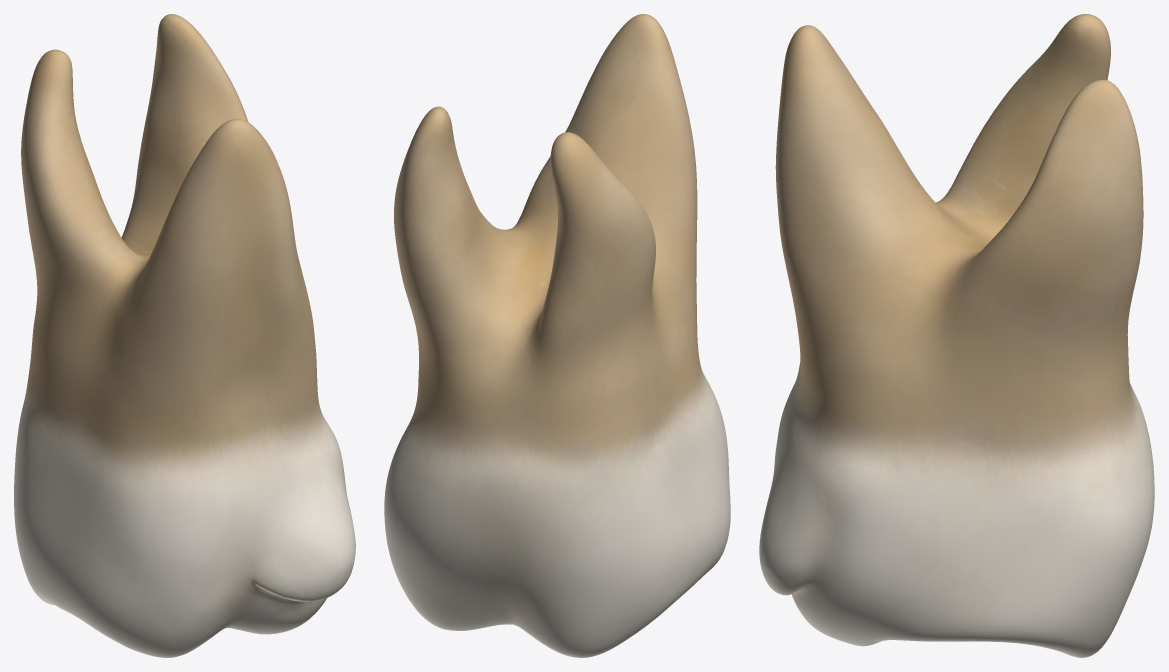
File: maxillary_first_molar_with_cusp_of_carabelli.glb
The picture shows the model from 3 angles, left to right: view 1: azimuth 30°, elevation 25°; view 2: azimuth 150°, elevation 25°; view 3: azimuth 270°, elevation 25°; orthographic projection. The views are drawn at different scales.
Parts seen in each view (by area): view 1: Object_4; view 2: Object_4; view 3: Object_4.
Part boxes in pixels (<box>): Object_4: <box>14,14,355,657</box>; Object_4: <box>384,14,730,657</box>; Object_4: <box>759,14,1154,657</box>.
Bounding box in the file's own units: 0.4025 × 0.7838 × 0.4719.
2 materials, 1 textured.
